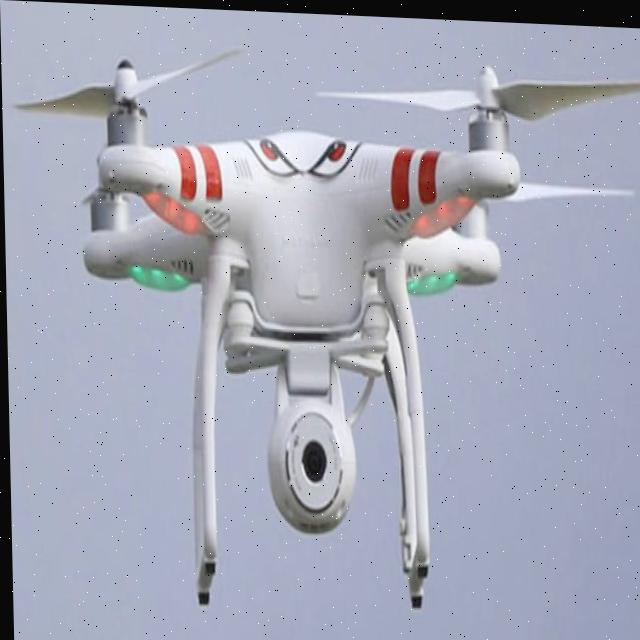drone: (12, 25, 633, 337)
